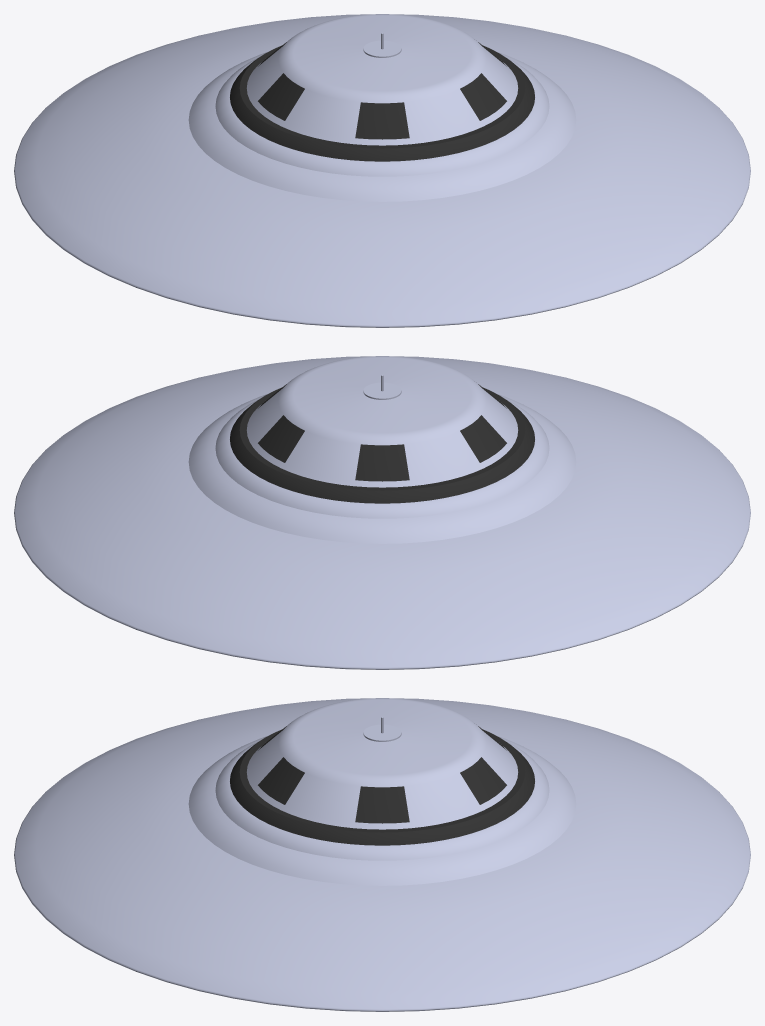
File: FlyingSaucerModel.fbx
3 views of the same model, one above another, from view 1: azimuth 30°, elevation 25°; view 2: azimuth 150°, elevation 25°; view 3: azimuth 270°, elevation 25° (orthographic).
Visible parts, largest first — view 1: v2; view 2: v2; view 3: v2.
Part boxes in pixels (x1,y1,x2,y2): v2: (14, 14, 750, 327); v2: (14, 356, 750, 669); v2: (14, 698, 750, 1011).
Bounding box in the file's own units: 199 × 63.66 × 199.
